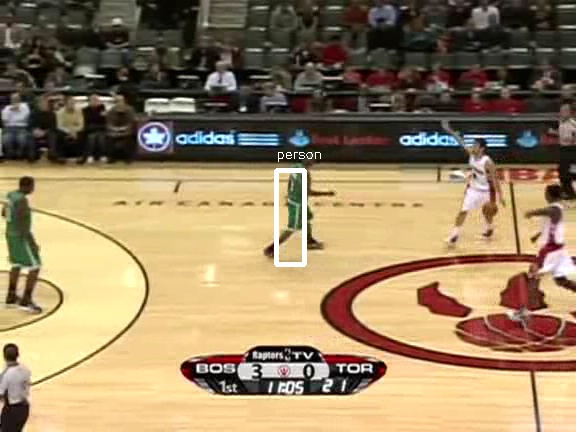person: (283, 159, 317, 240), (282, 159, 316, 240), (284, 159, 318, 240), (283, 158, 317, 239), (283, 160, 317, 241)
target_negative: (115, 67, 251, 399), (398, 151, 452, 393), (250, 360, 498, 397), (483, 377, 525, 412), (334, 88, 397, 111), (97, 343, 568, 344)
